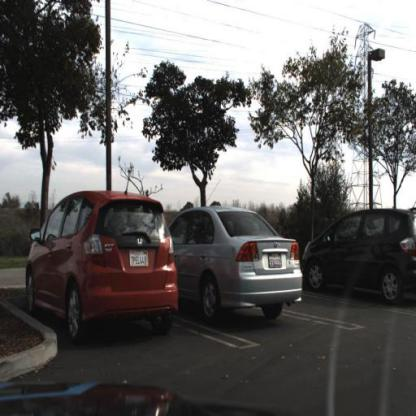car: (165, 204, 307, 331), (301, 202, 416, 309)
